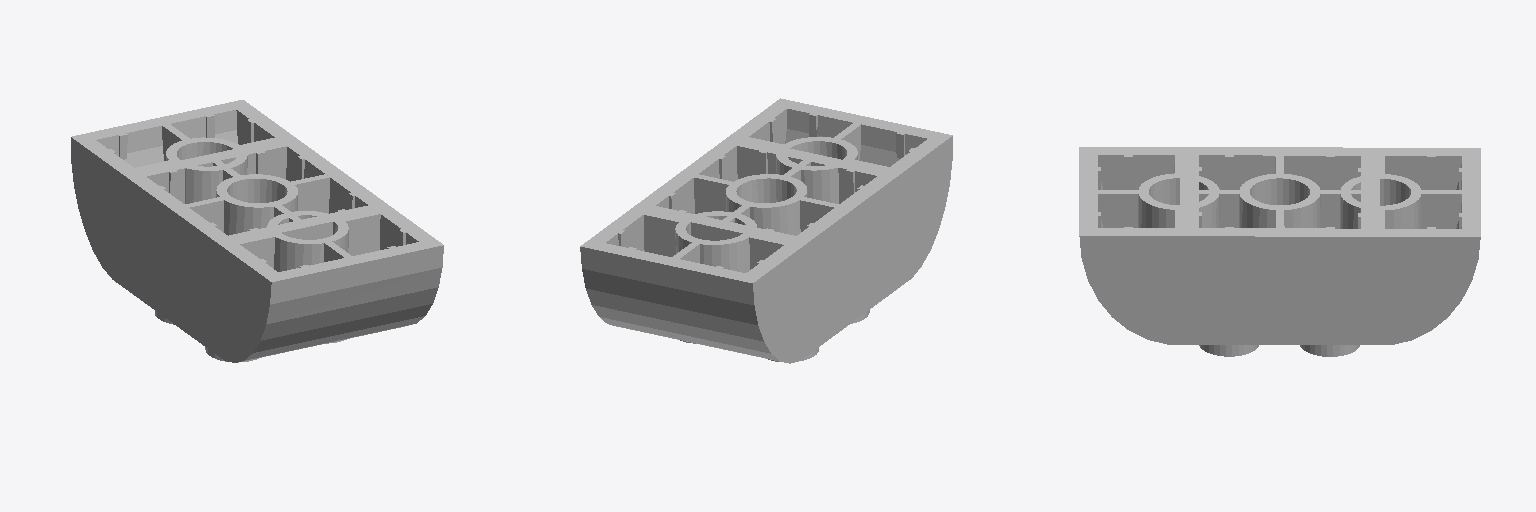
The model's file is duplo3.obj.
The picture shows the model from 3 angles: view 1: azimuth 30°, elevation 25°; view 2: azimuth 150°, elevation 25°; view 3: azimuth 270°, elevation 25°; orthographic projection.
Visible parts, largest first — view 1: duplo3; view 2: duplo3; view 3: duplo3.
Boxes of the visible parts, x1=… form: duplo3: x1=71, y1=100, x2=443, y2=362; duplo3: x1=580, y1=98, x2=952, y2=363; duplo3: x1=1079, y1=147, x2=1480, y2=356.
Bounding box in the file's own units: 0.0801 × 0.059 × 0.1585.